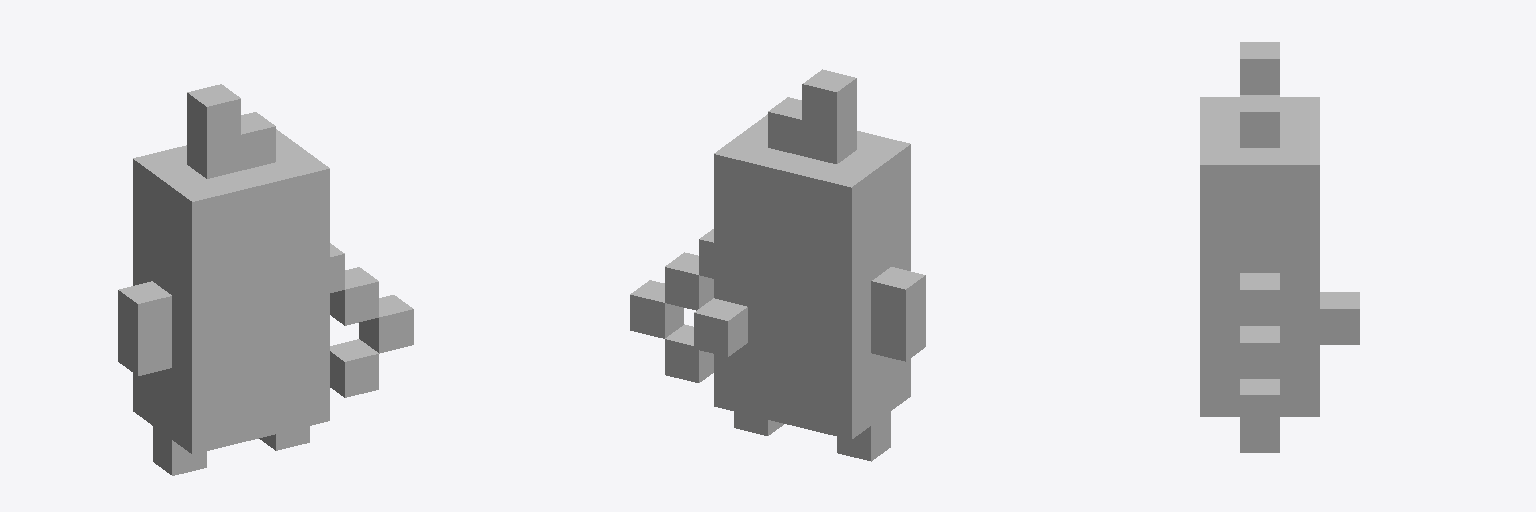
File: Zombie.obj
The picture shows the model from 3 angles: view 1: azimuth 30°, elevation 25°; view 2: azimuth 150°, elevation 25°; view 3: azimuth 270°, elevation 25°; orthographic projection.
Visible parts, largest first — view 1: object 1; view 2: object 1; view 3: object 1.
Part boxes in pixels (x1,y1,x2,y2): object 1: (118,84,413,475); object 1: (630,69,925,461); object 1: (1200,42,1359,452).
Bounding box in the file's own units: 0.8 × 1 × 0.4.